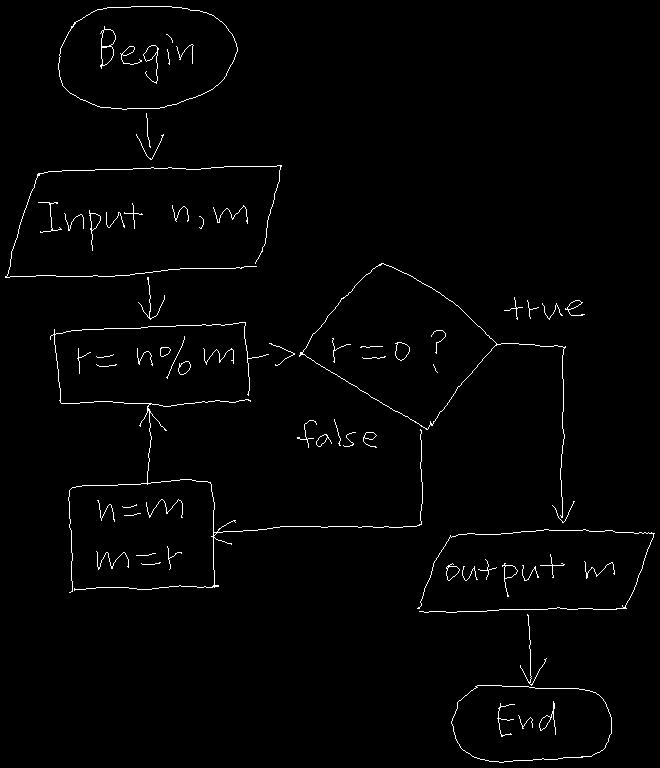arrow: (211, 429, 422, 544), (496, 343, 574, 522), (139, 404, 166, 484), (520, 614, 546, 685), (136, 113, 163, 159), (138, 277, 164, 319), (247, 343, 294, 365)
data: (5, 165, 281, 277), (417, 529, 654, 612)
decision: (299, 263, 496, 429)
process: (68, 479, 218, 592), (50, 322, 250, 406)
terminator: (58, 6, 237, 109), (451, 685, 611, 762)
text: (38, 202, 247, 250), (446, 554, 614, 596), (77, 336, 233, 378), (96, 499, 182, 569), (100, 26, 193, 83), (332, 330, 445, 372), (297, 419, 376, 447), (497, 701, 555, 736), (504, 297, 584, 319)
